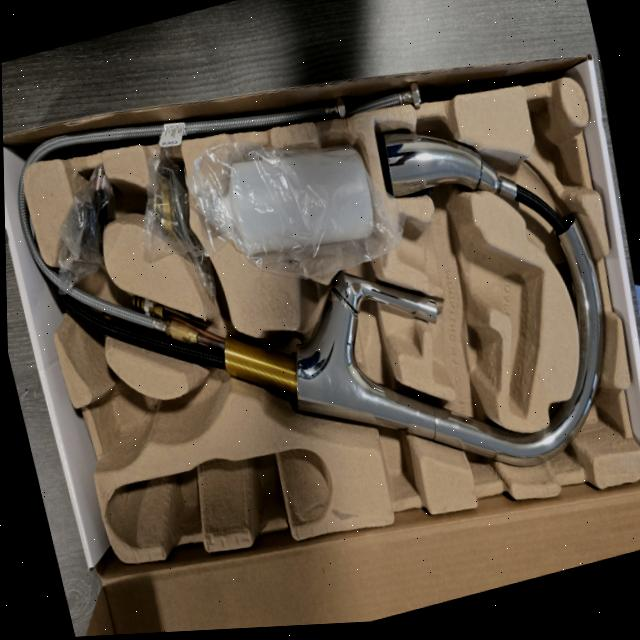1: (41, 126, 604, 464)
2m: (395, 211, 541, 413)
3: (204, 146, 376, 257)
4m: (103, 454, 332, 548)
5m: (96, 388, 147, 461)
6: (143, 143, 211, 298)
7: (54, 159, 116, 293)
